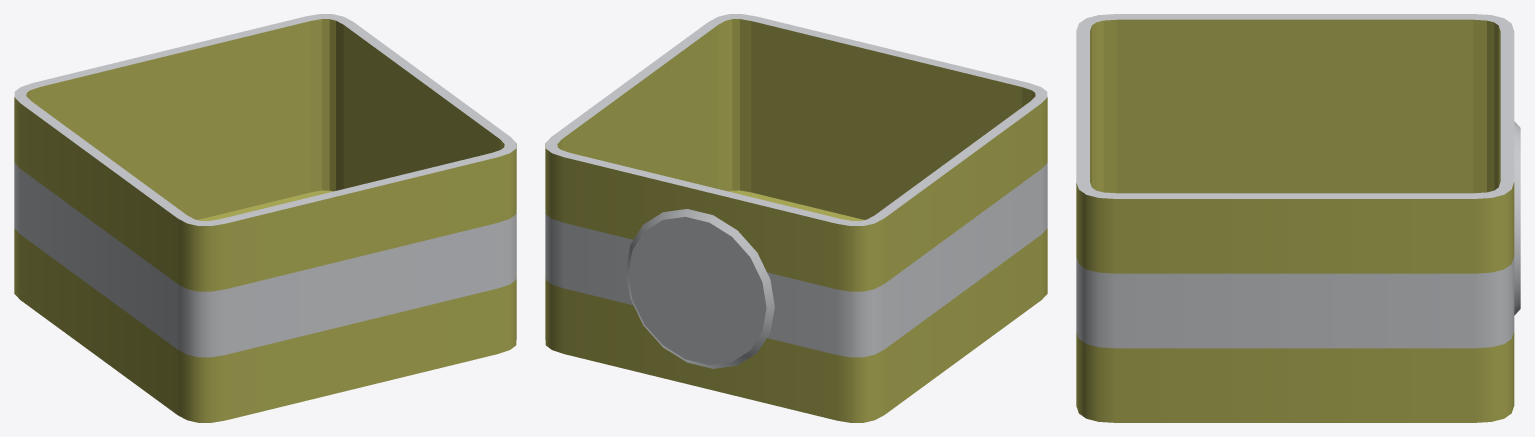
The model's file is Caja-Dados Amarilla.FBX.
3 renders of one model, left to right at view 1: azimuth 30°, elevation 25°; view 2: azimuth 150°, elevation 25°; view 3: azimuth 270°, elevation 25°, orthographic. The views are drawn at different scales.
Parts seen in each view (by area): view 1: Box004; view 2: Box004; view 3: Box004.
Boxes of the visible parts, x1,y1,x2,y2 form: Box004: (14, 14, 516, 422); Box004: (545, 14, 1047, 422); Box004: (1076, 14, 1520, 422).
Bounding box in the file's own units: 25 × 25.37 × 14.11.
